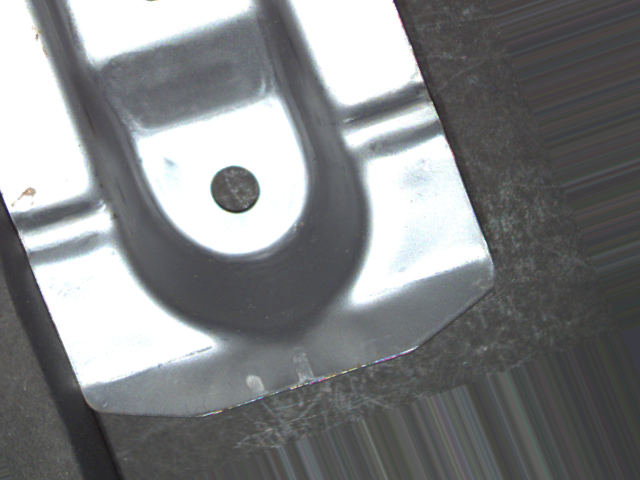defect: (208, 162, 265, 216)
